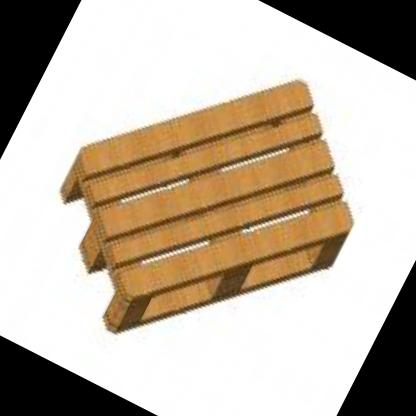BoxFace: (59, 76, 355, 336)
